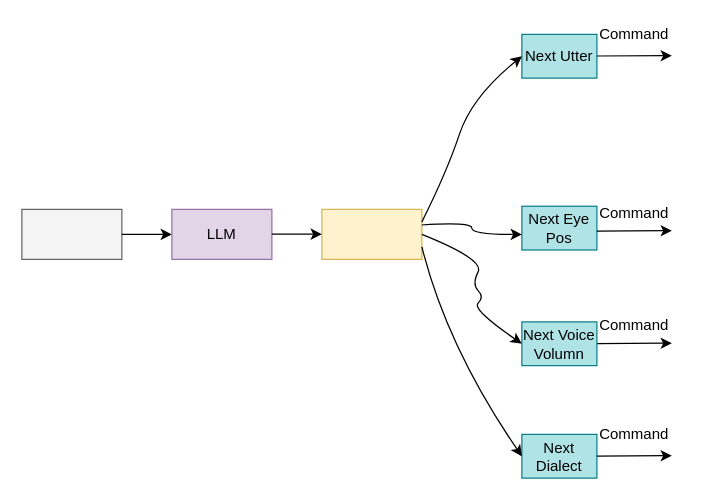
Image size: 704x500. Some labels were removed from this diagram. The shapes that lost their labels are listed below. From the top down, each one's box as (x1, y1, x2, y2) in pixels, then its label:
(21, 208, 122, 259): InputData
(321, 208, 422, 259): Output
